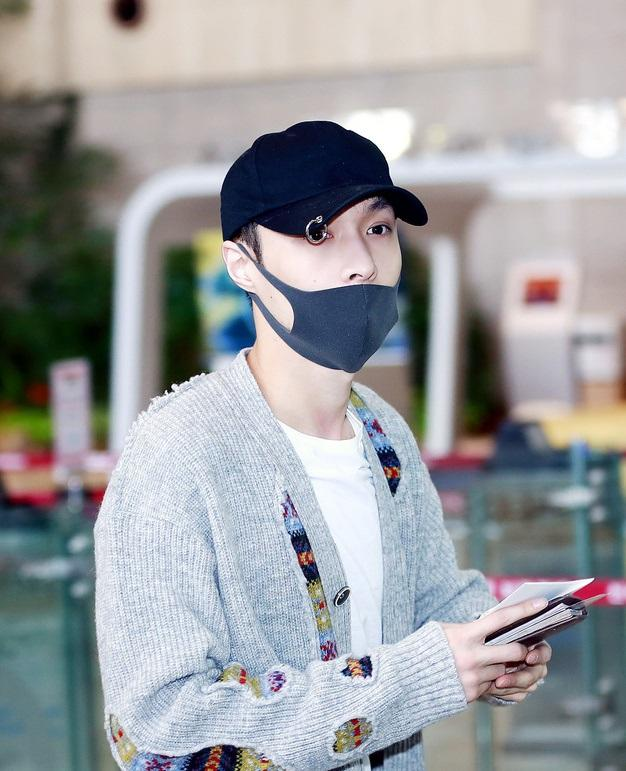face_mask: (256, 160, 398, 369)
